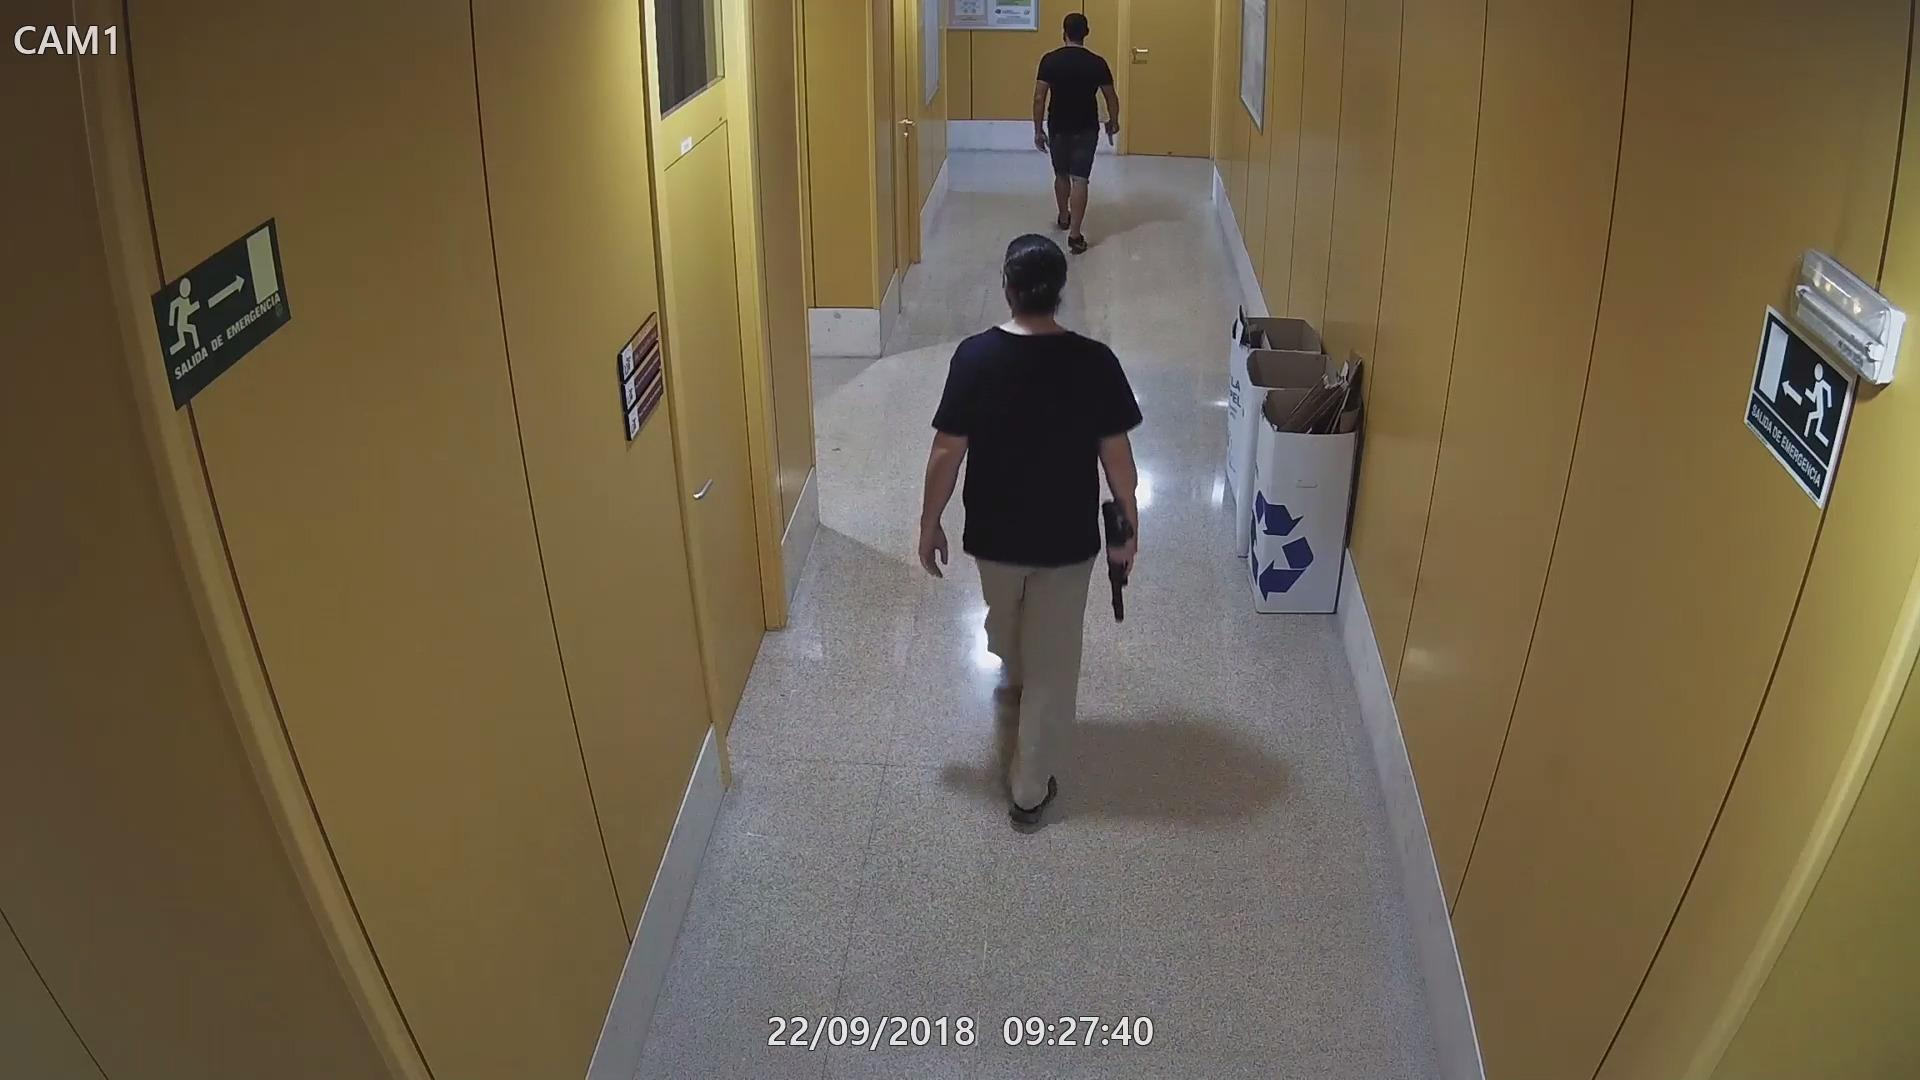Handgun: (1101, 116, 1127, 148)
